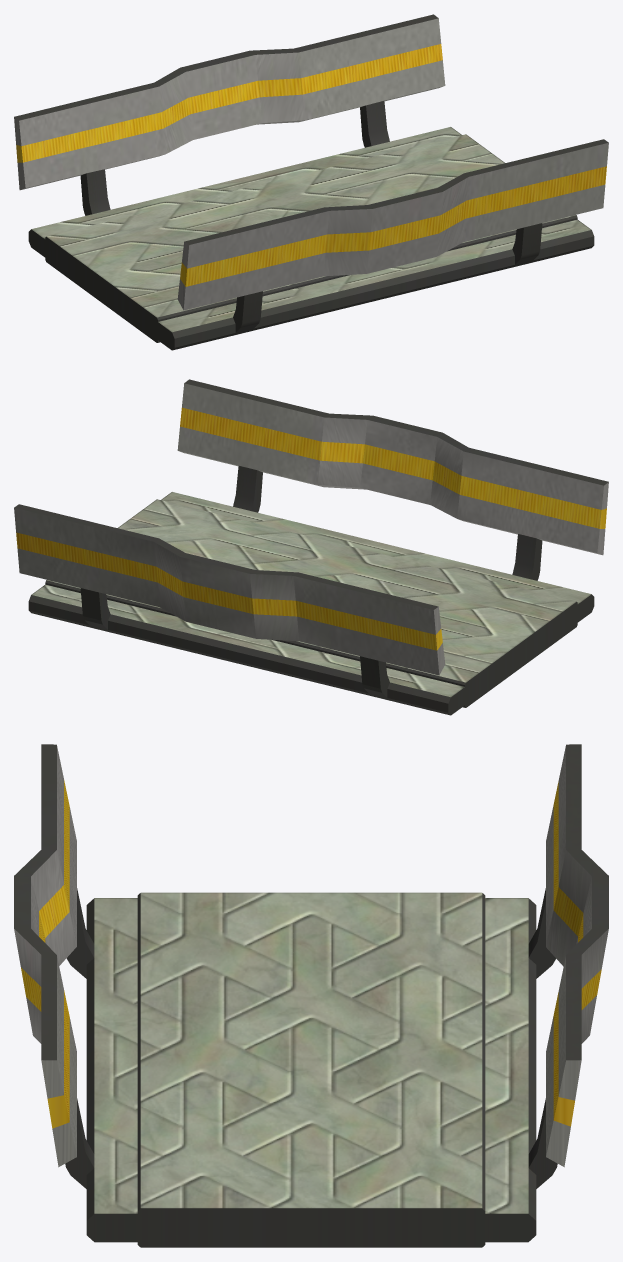
The model's file is Platform.fbx.
3 views of the same model, one above another, from view 1: azimuth 30°, elevation 25°; view 2: azimuth 150°, elevation 25°; view 3: azimuth 270°, elevation 25° (orthographic). The views are drawn at different scales.
Visible parts, largest first — view 1: Platform; view 2: Platform; view 3: Platform.
Boxes of the visible parts, x1=… form: Platform: x1=14, y1=14, x2=608, y2=350; Platform: x1=14, y1=379, x2=608, y2=715; Platform: x1=14, y1=744, x2=608, y2=1247.
Bounding box in the file's own units: 6 × 1.66 × 4.78.
1 material, 1 textured.
